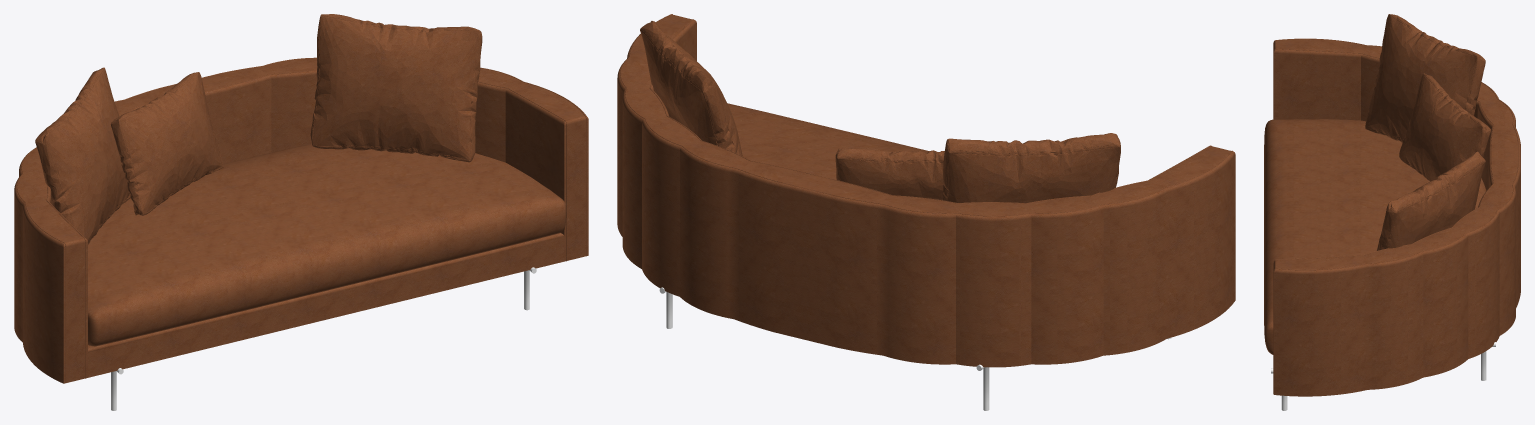
Rendered from 001.1_Spativm.glb.
The picture shows the model from 3 angles, left to right: view 1: azimuth 30°, elevation 25°; view 2: azimuth 150°, elevation 25°; view 3: azimuth 270°, elevation 25°; orthographic projection. The views are drawn at different scales.
Visible parts, largest first — view 1: root; view 2: root; view 3: root.
Boxes of the visible parts, x1,y1,x2,y2 form: root: [14, 14, 588, 410]; root: [617, 14, 1235, 410]; root: [1264, 14, 1520, 410].
Size of the model in its own units: 1.98 by 0.8523 by 0.92.
2 materials, 2 textured.
